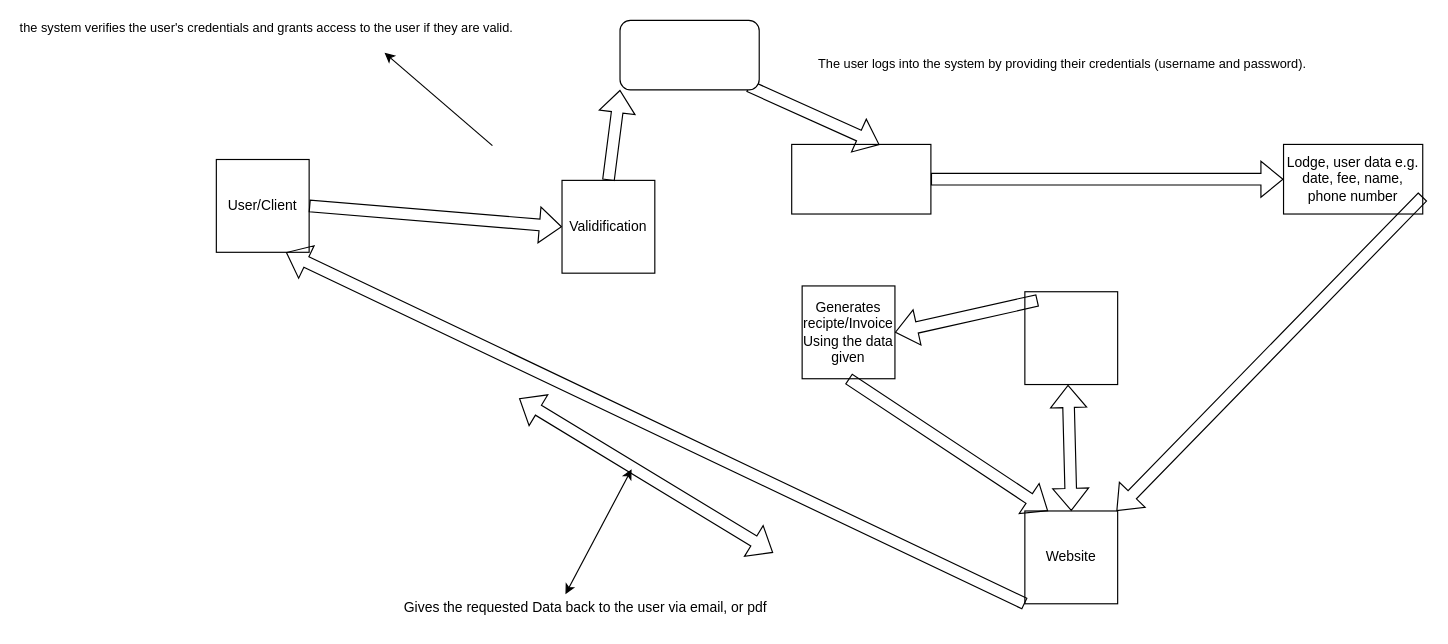
Image size: 1448x644. Some labels were removed from this diagram. Here are the shapes that lost their labels. From the top down, the centre of each, then its label:
the point at 689,54: Logged in
the point at 861,178: user input
the point at 1071,338: Database
